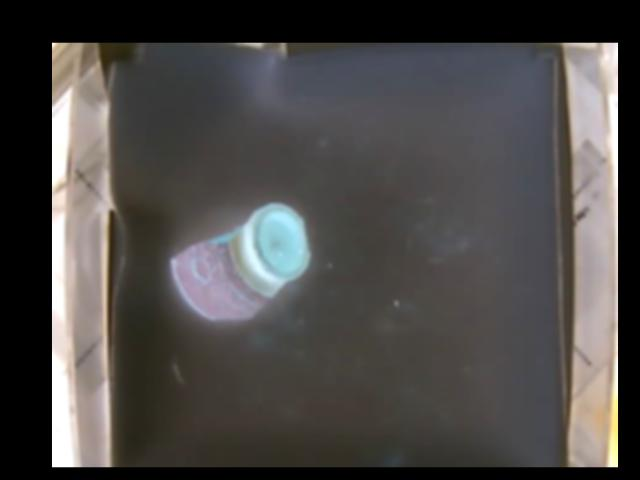China: (170, 203, 306, 317)
